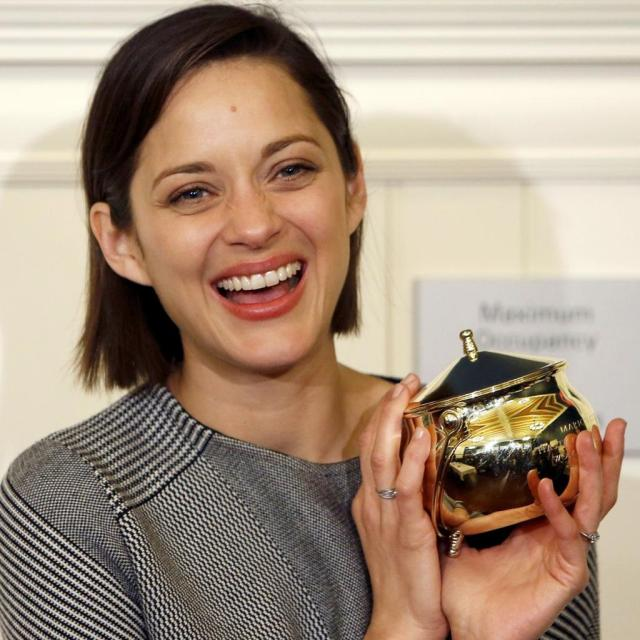Face: (128, 61, 373, 382)
